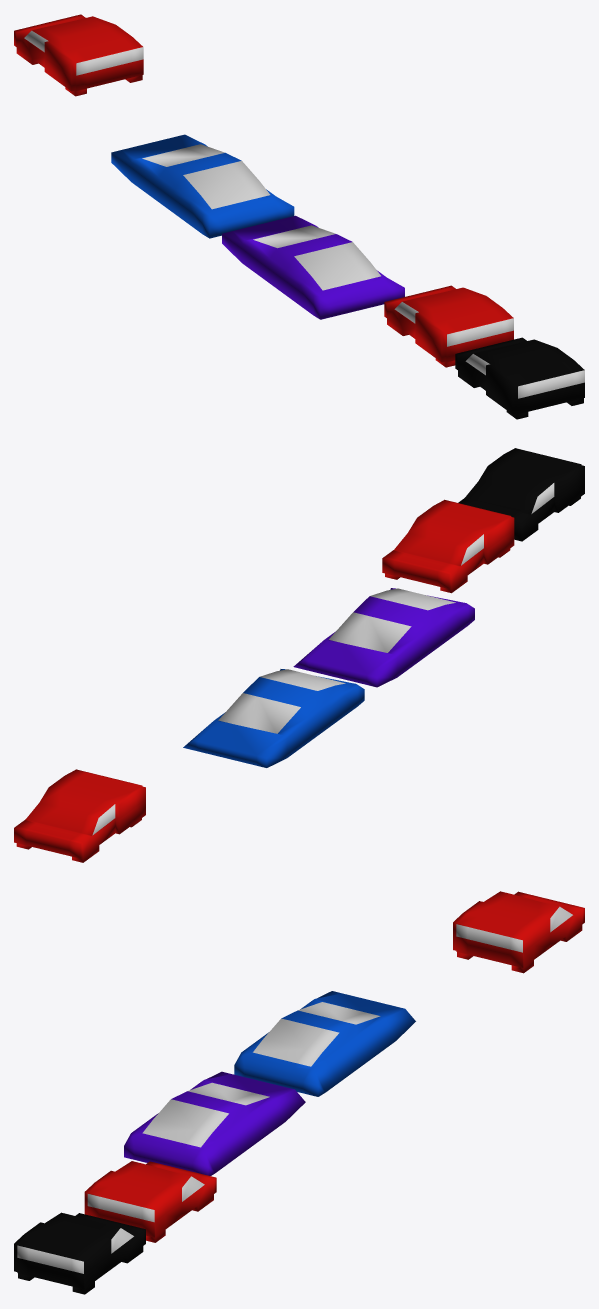
The model's file is carAI10.obj.
3 views of the same model, one above another, from view 1: azimuth 30°, elevation 25°; view 2: azimuth 150°, elevation 25°; view 3: azimuth 330°, elevation 25° (orthographic).
Parts seen in each view (by area): view 1: Cube.047, Cube.048, Cube.049, Cube.046, Cube.045; view 2: Cube.048, Cube.047, Cube.045, Cube.049, Cube.046; view 3: Cube.048, Cube.047, Cube.046, Cube.049, Cube.045.
Boxes of the visible parts, left/top/right/bottom form: Cube.047: left=222, top=215, right=404, bottom=319; Cube.048: left=111, top=134, right=294, bottom=238; Cube.049: left=14, top=14, right=143, bottom=96; Cube.046: left=455, top=337, right=584, bottom=419; Cube.045: left=384, top=285, right=513, bottom=367; Cube.048: left=183, top=669, right=364, bottom=767; Cube.047: left=293, top=588, right=474, bottom=687; Cube.045: left=382, top=499, right=514, bottom=593; Cube.049: left=14, top=769, right=145, bottom=862; Cube.046: left=458, top=448, right=584, bottom=541; Cube.048: left=234, top=991, right=415, bottom=1096; Cube.047: left=124, top=1071, right=305, bottom=1175; Cube.046: left=14, top=1212, right=145, bottom=1294; Cube.049: left=453, top=891, right=584, bottom=973; Cube.045: left=84, top=1161, right=216, bottom=1242.
Size of the model in its own units: 50.76 by 15.93 by 395.
